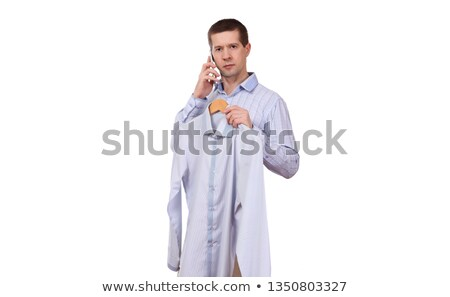phone: (200, 53, 222, 85)
talk: (199, 38, 247, 92)
